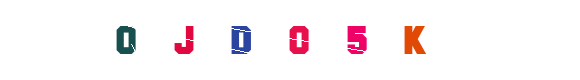5: (251, 0, 331, 80)
D: (234, 0, 314, 80)
J: (195, 0, 275, 80)
K: (373, 0, 453, 80)
O: (85, 0, 165, 80), (250, 0, 330, 80)
